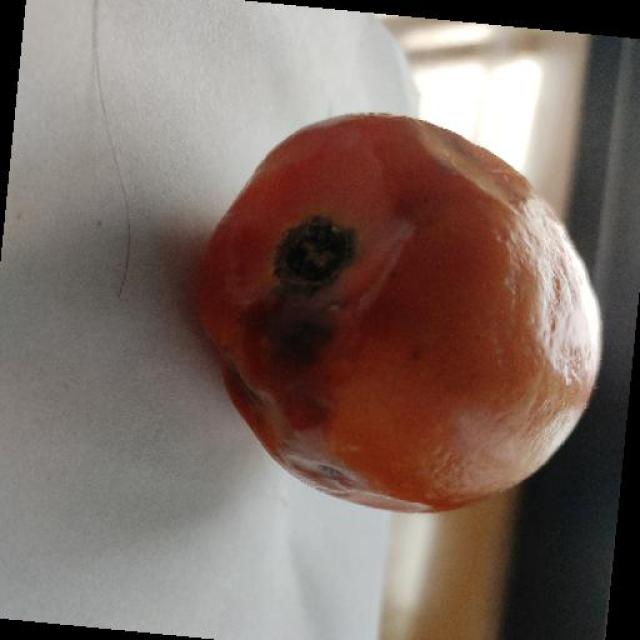Stale_tomato: (204, 87, 597, 530)
